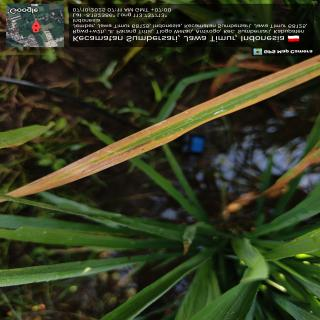Hawar-Daun: (6, 54, 320, 198)
